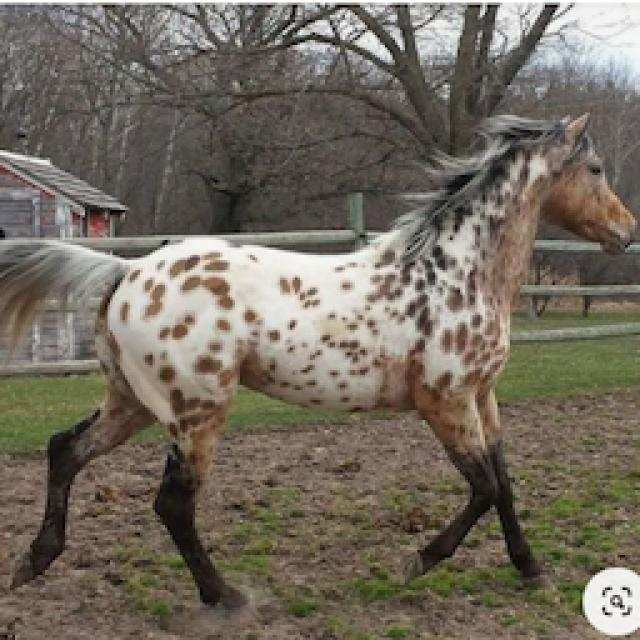Horse: (0, 102, 638, 616)
